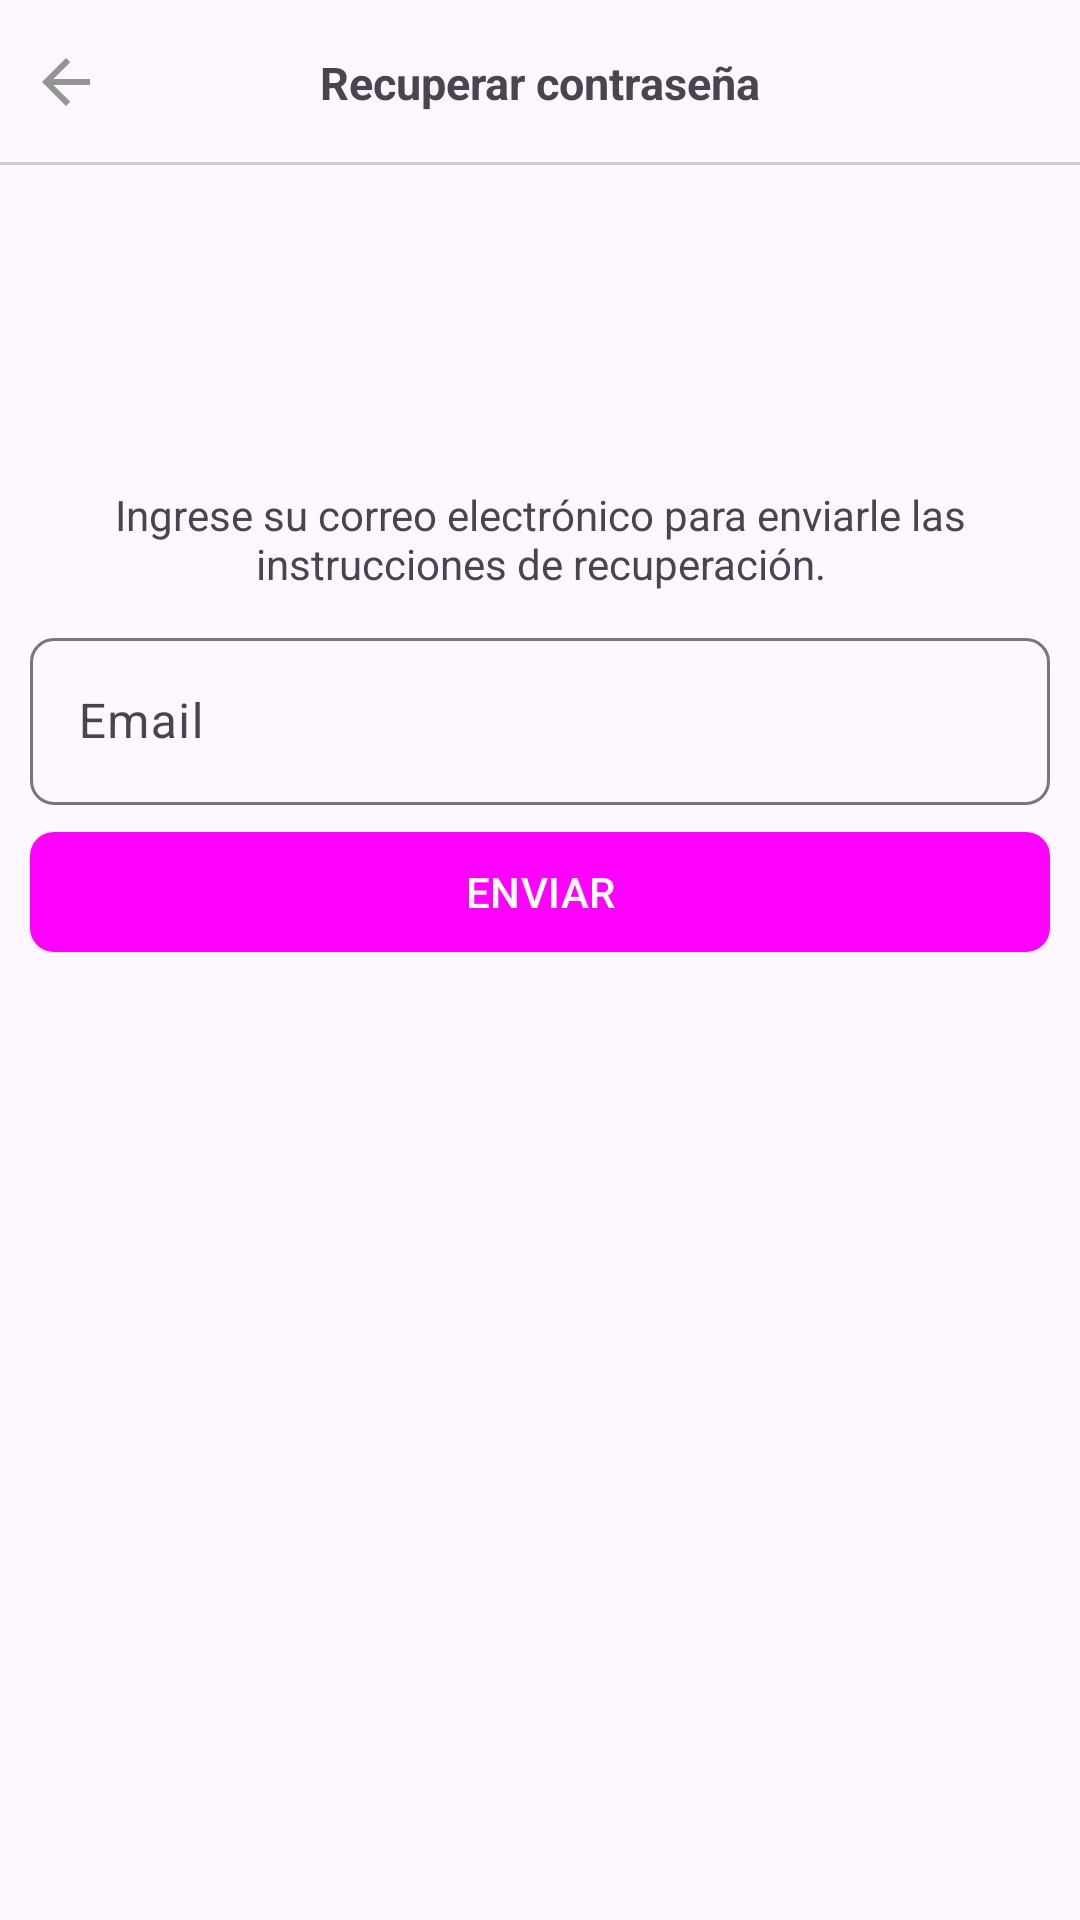

Named icons in this screenshot (1080 × 1920) and their bounding boxes, (x1,y1,x2,y2):
regresar: (42,58,90,106)
